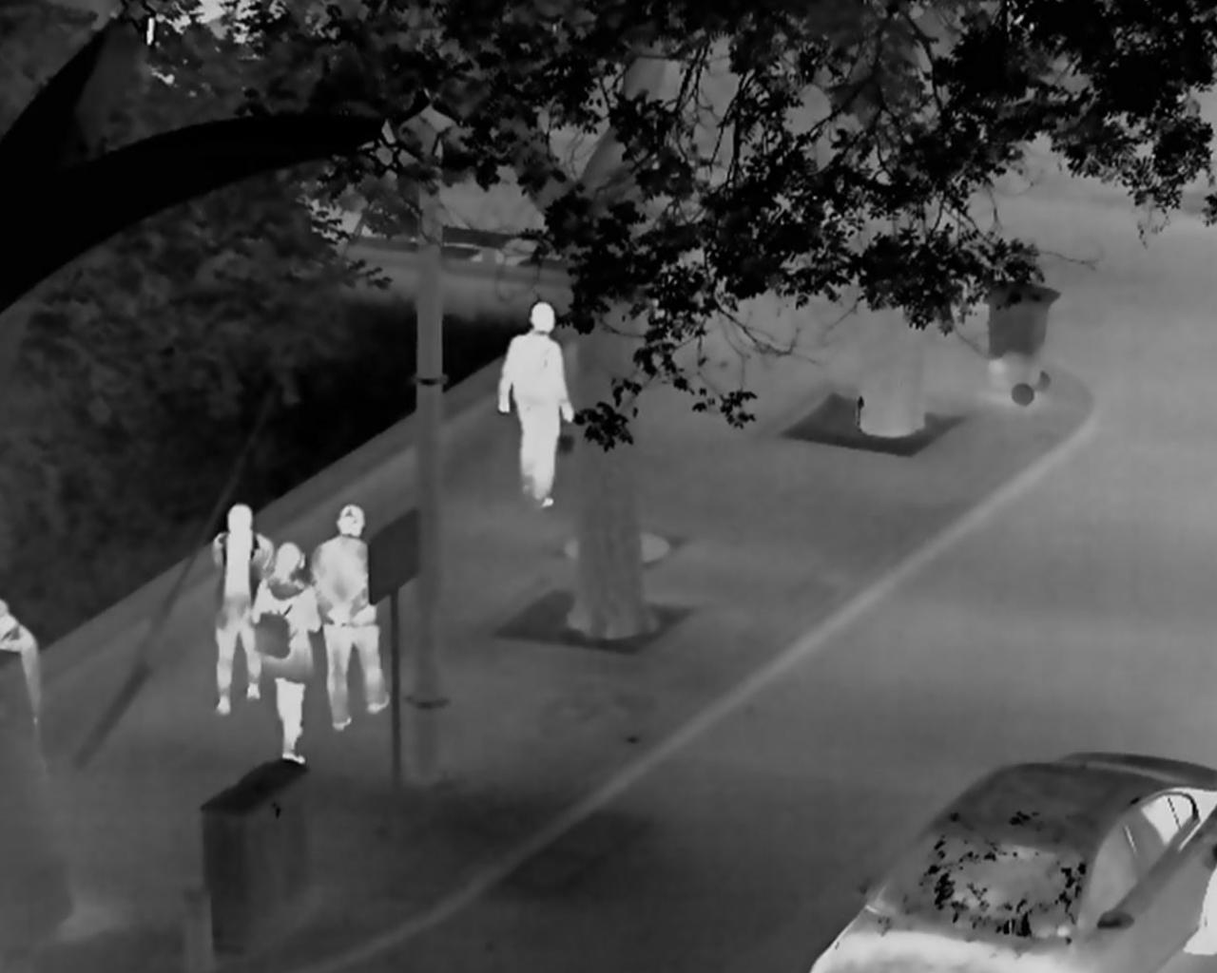person: (310, 503, 392, 731), (496, 301, 574, 509), (251, 543, 320, 766), (211, 503, 276, 715)
